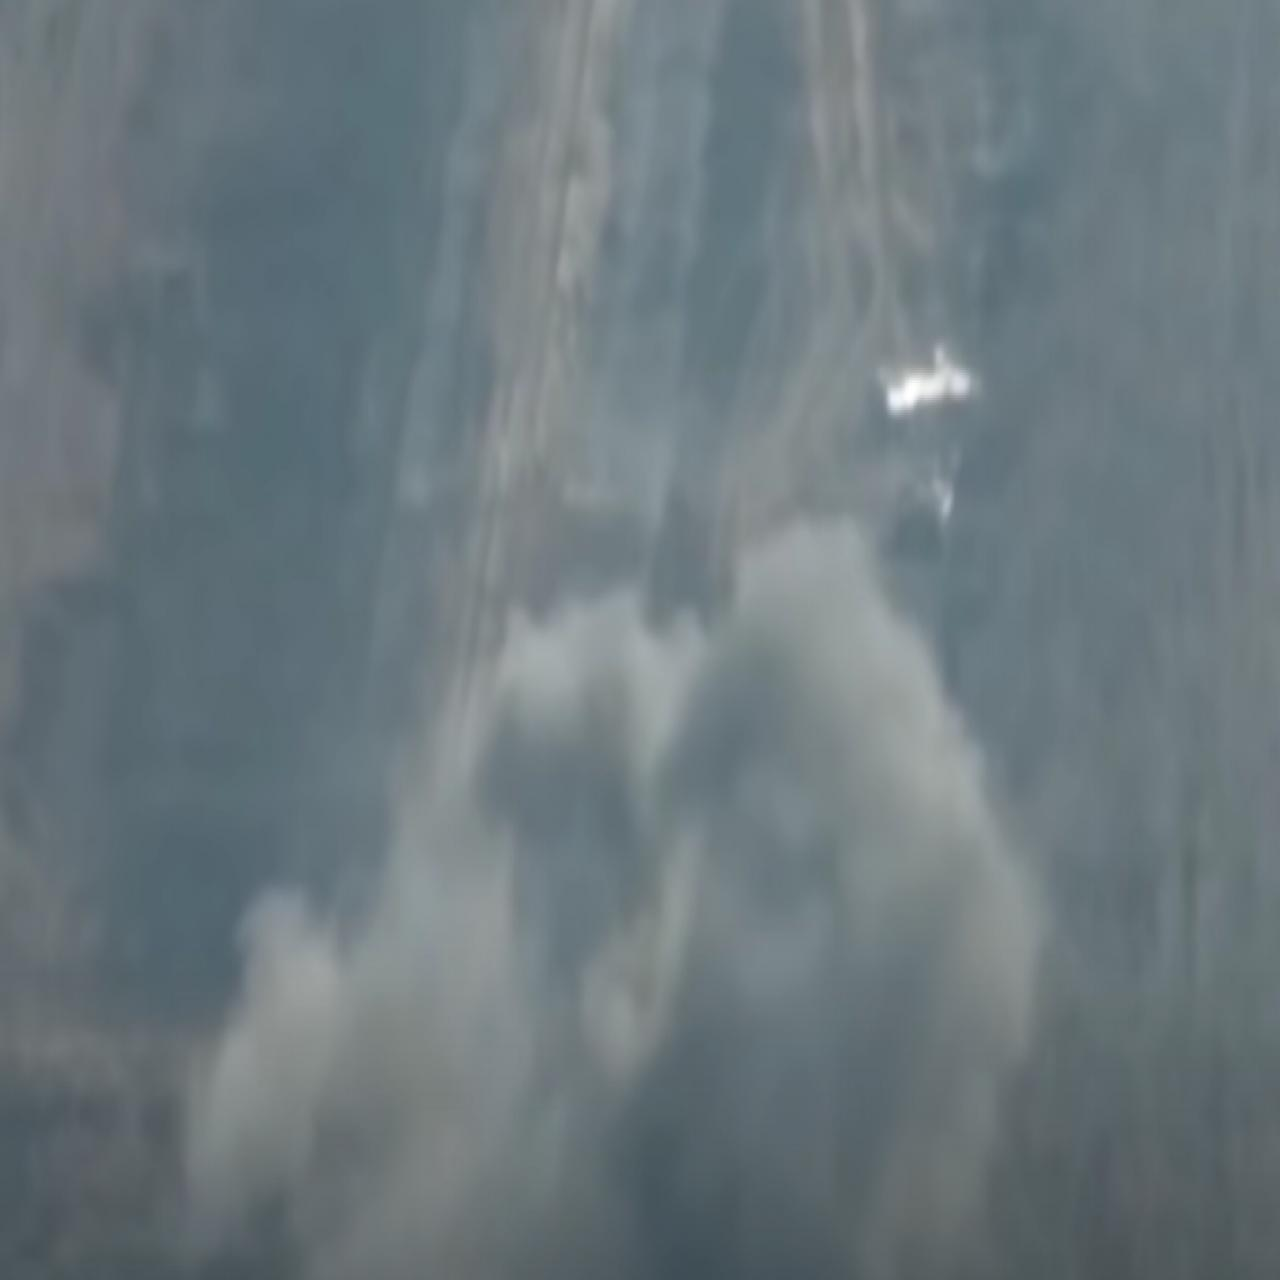MIL_Veh: (884, 448, 965, 558)
